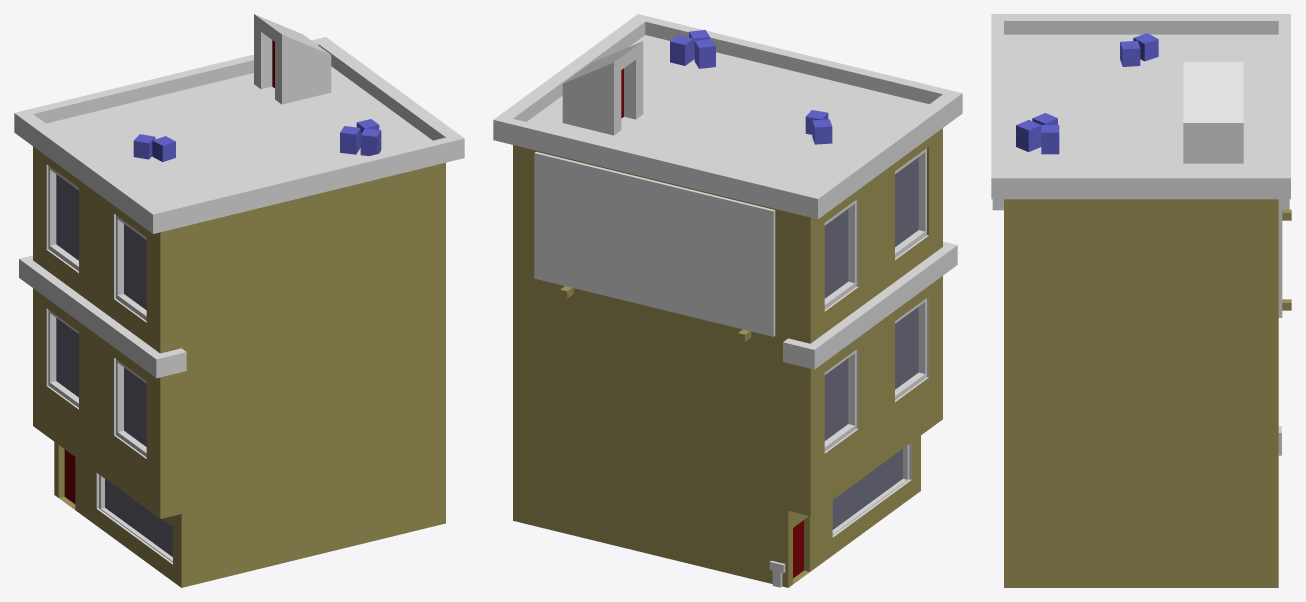
File: Building_2.fbx
3 views of the same model, side by side, from view 1: azimuth 30°, elevation 25°; view 2: azimuth 150°, elevation 25°; view 3: azimuth 270°, elevation 25° (orthographic). The views are drawn at different scales.
Visible parts, largest first — view 1: Building_2; view 2: Building_2; view 3: Building_2.
Part boxes in pixels (<box>): Building_2: <box>14,14,464,587</box>; Building_2: <box>493,14,962,587</box>; Building_2: <box>991,14,1291,587</box>.
Bounding box in the file's own units: 0.8264 × 1.13 × 0.6386.
